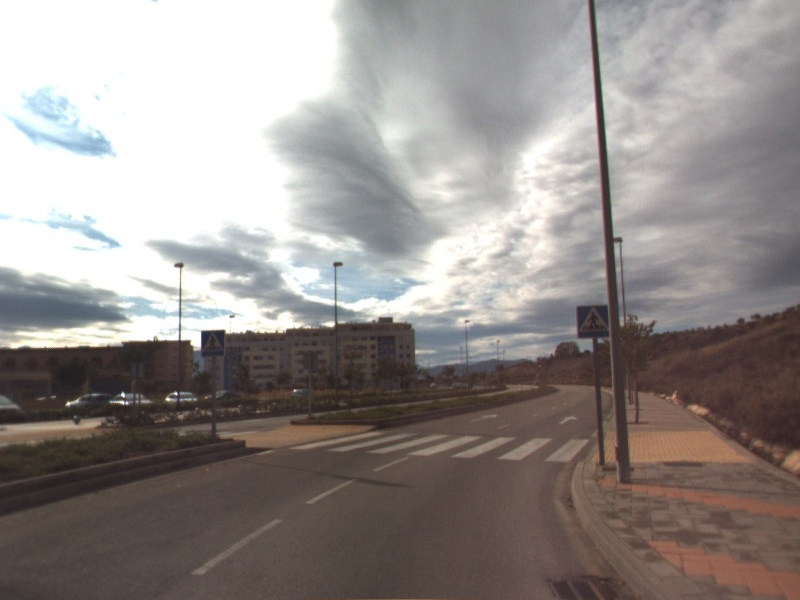STRAIGHT: (468, 412, 499, 424), (556, 413, 579, 426)
